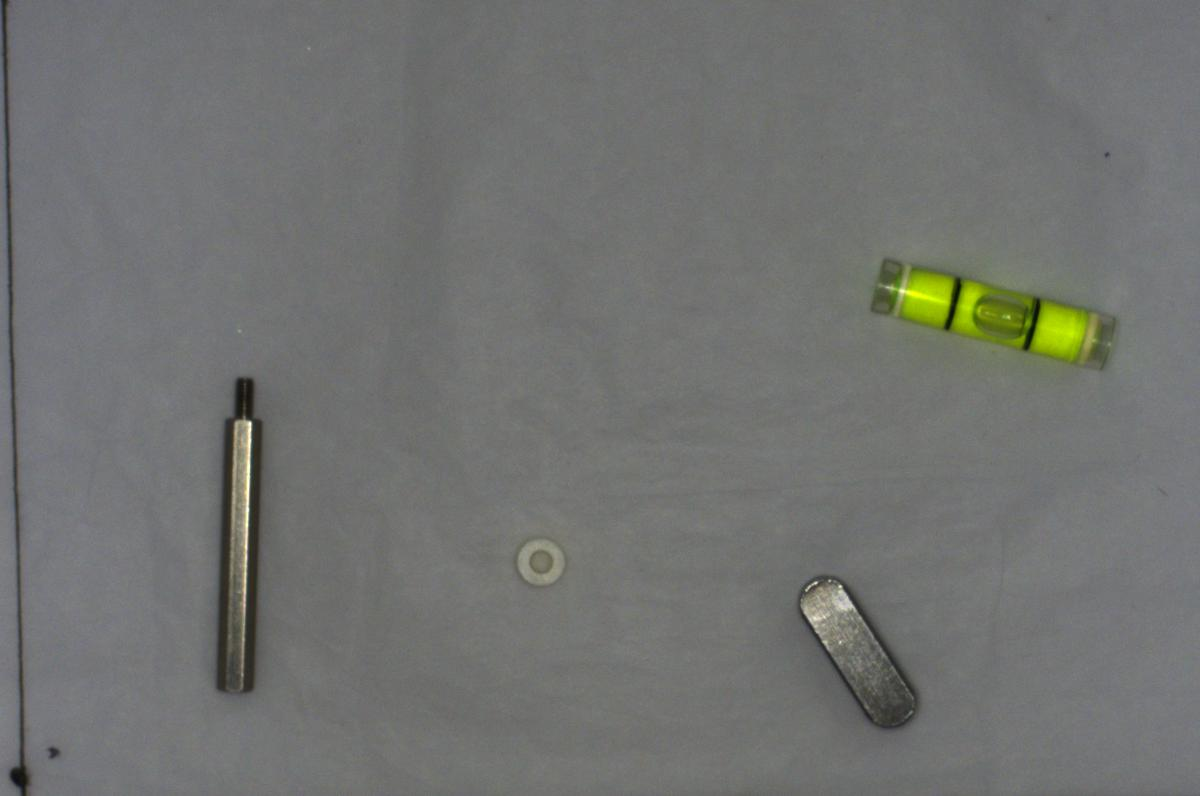Hexagonal steel column: (211, 369, 268, 694)
Horizontal bubble: (865, 252, 1125, 369)
Keybar: (797, 573, 925, 739)
Plastic cushion pillar: (507, 530, 574, 600)
